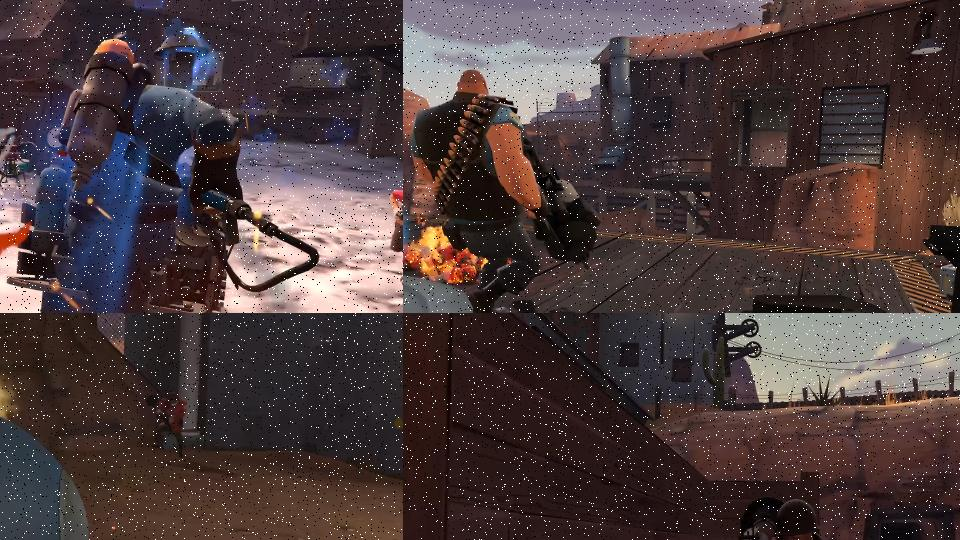Enemy: (60, 35, 319, 313), (407, 66, 605, 313), (143, 387, 190, 461), (388, 180, 403, 290)
